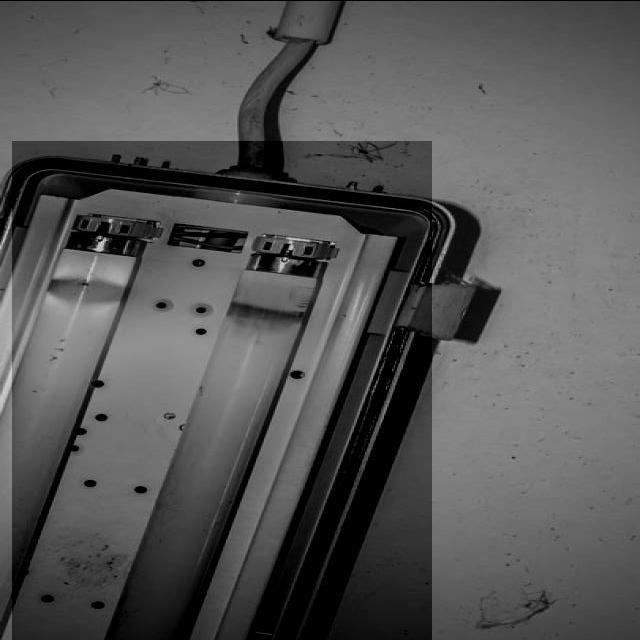light: (0, 158, 461, 640)
